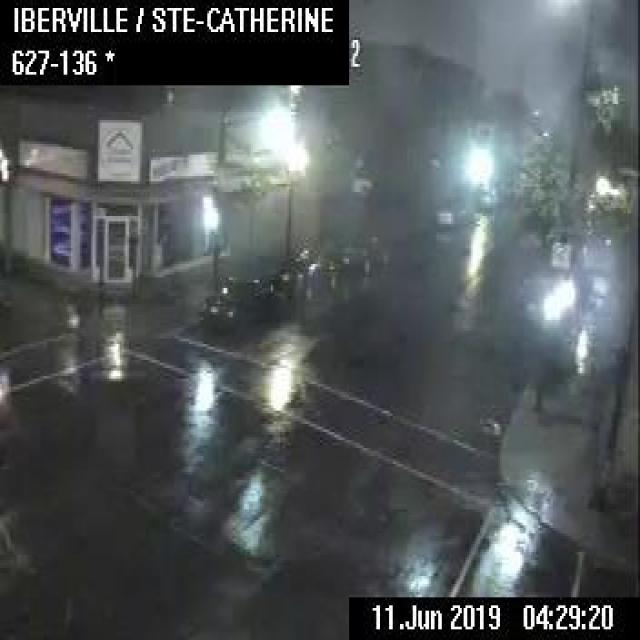vehicle: (201, 268, 273, 328), (268, 250, 332, 302), (341, 229, 389, 271), (433, 197, 467, 224)
